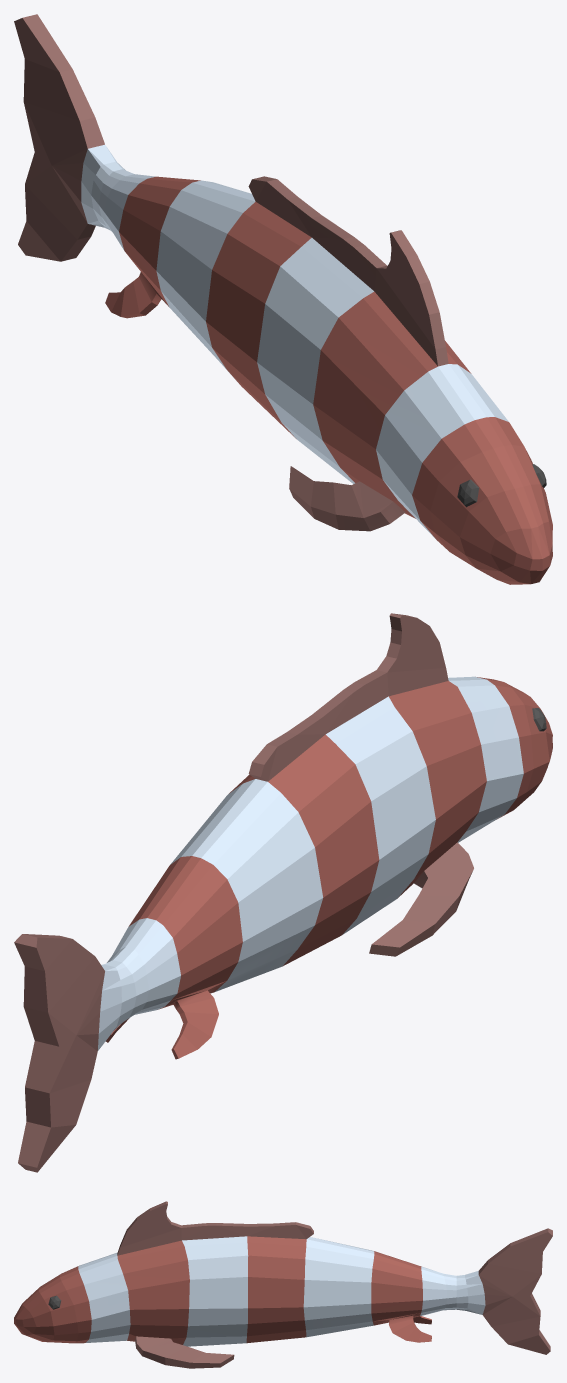
The model's file is fish01.fbx.
3 views of the same model, one above another, from view 1: azimuth 30°, elevation 25°; view 2: azimuth 150°, elevation 25°; view 3: azimuth 270°, elevation 25° (orthographic). The views are drawn at different scales.
Visible parts, largest first — view 1: fish01; view 2: fish01; view 3: fish01.
Part boxes in pixels (bbox=[...]): fish01: bbox=[14, 14, 552, 584]; fish01: bbox=[14, 613, 552, 1172]; fish01: bbox=[14, 1201, 552, 1368].
Bounding box in the file's own units: 35.16 × 253 × 78.6.
